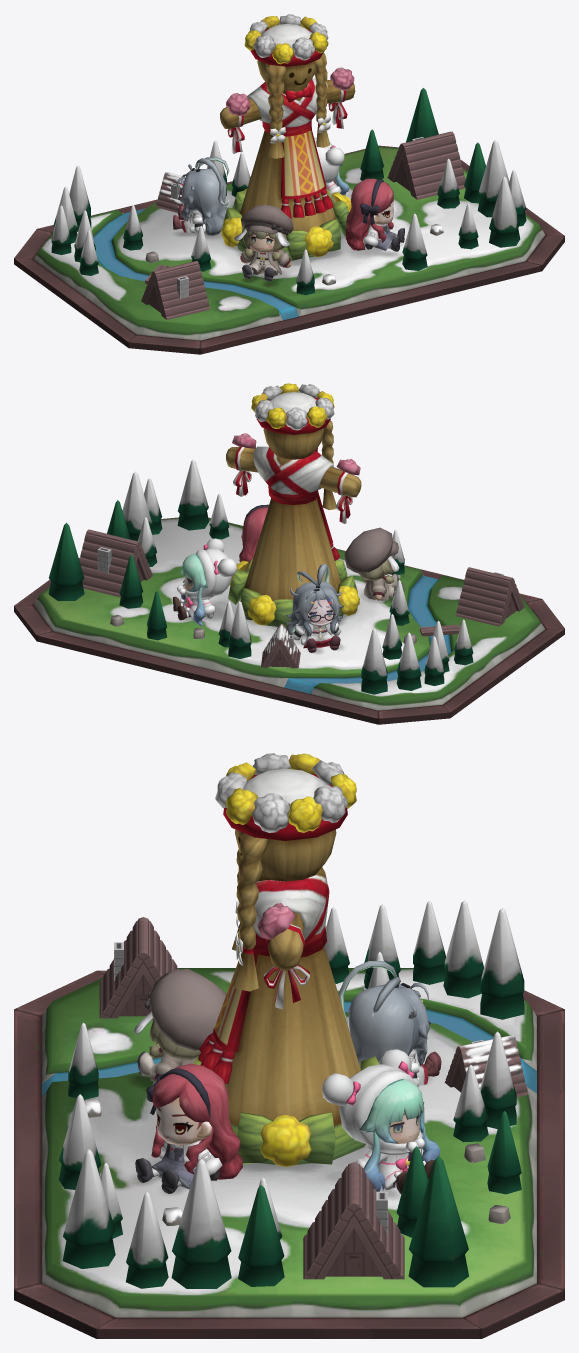
The model's file is my_event088_springfestadoll.glb.
3 renders of one model, top to bottom at view 1: azimuth 30°, elevation 25°; view 2: azimuth 150°, elevation 25°; view 3: azimuth 270°, elevation 25°, orthographic. The views are drawn at different scales.
Parts seen in each view (by area): view 1: my_event088_springfestadoll; view 2: my_event088_springfestadoll; view 3: my_event088_springfestadoll.
Boxes of the visible parts, left/top/right/bottom form: my_event088_springfestadoll: left=14, top=14, right=564, bottom=354; my_event088_springfestadoll: left=14, top=383, right=564, bottom=724; my_event088_springfestadoll: left=14, top=753, right=564, bottom=1338.
Size of the model in its own units: 0.0305 by 0.0152 by 0.0198.
Materials: 2 (2 with a texture image).
